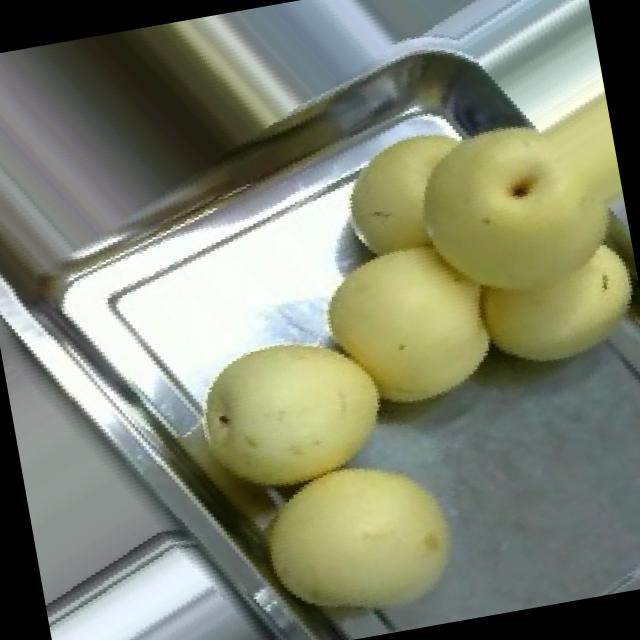Fruit: (378, 71, 640, 418), (154, 296, 421, 534), (286, 205, 536, 456), (226, 419, 493, 640)
